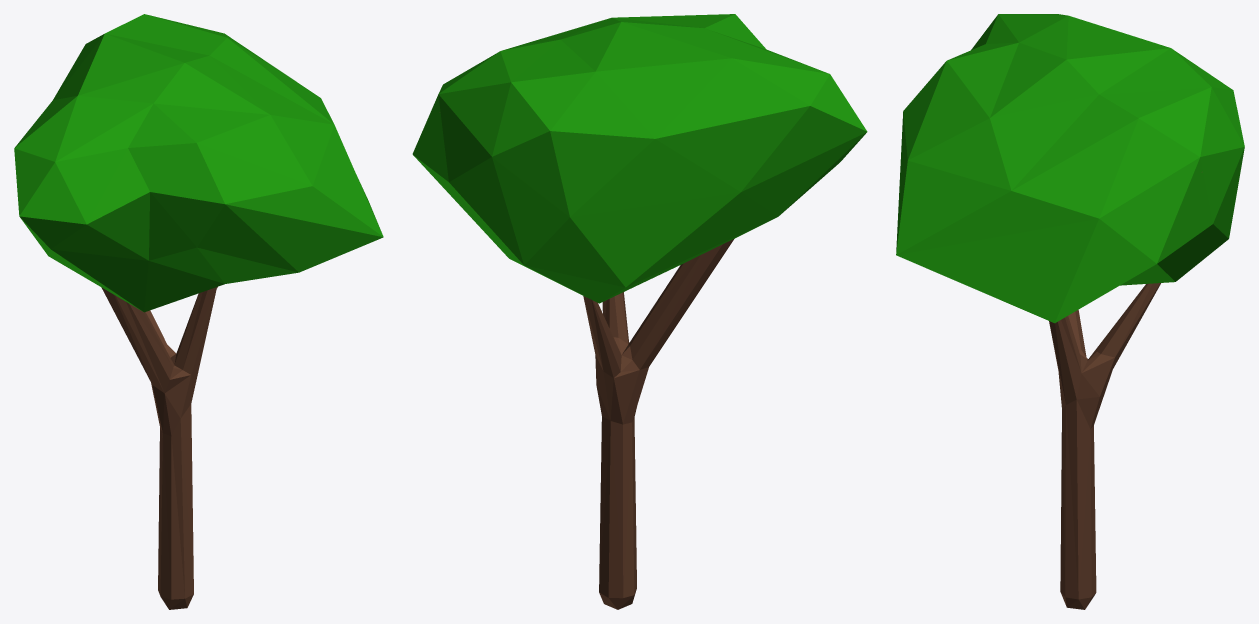
File: Tree.dae
3 renders of one model, left to right at view 1: azimuth 30°, elevation 25°; view 2: azimuth 150°, elevation 25°; view 3: azimuth 270°, elevation 25°, orthographic. The views are drawn at different scales.
Visible parts, largest first — view 1: Cube; view 2: Cube; view 3: Cube.
Boxes of the visible parts, left/top/right/bottom form: Cube: left=14, top=14, right=383, bottom=609; Cube: left=412, top=14, right=867, bottom=609; Cube: left=896, top=14, right=1244, bottom=609.
Size of the model in its own units: 4.48 by 3.59 by 6.25.
Materials: 1 (1 with a texture image).
